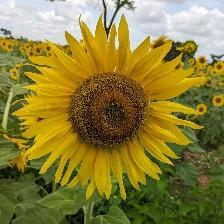sunflower: (15, 11, 208, 204), (197, 101, 210, 118), (216, 60, 224, 75), (215, 96, 224, 108)
